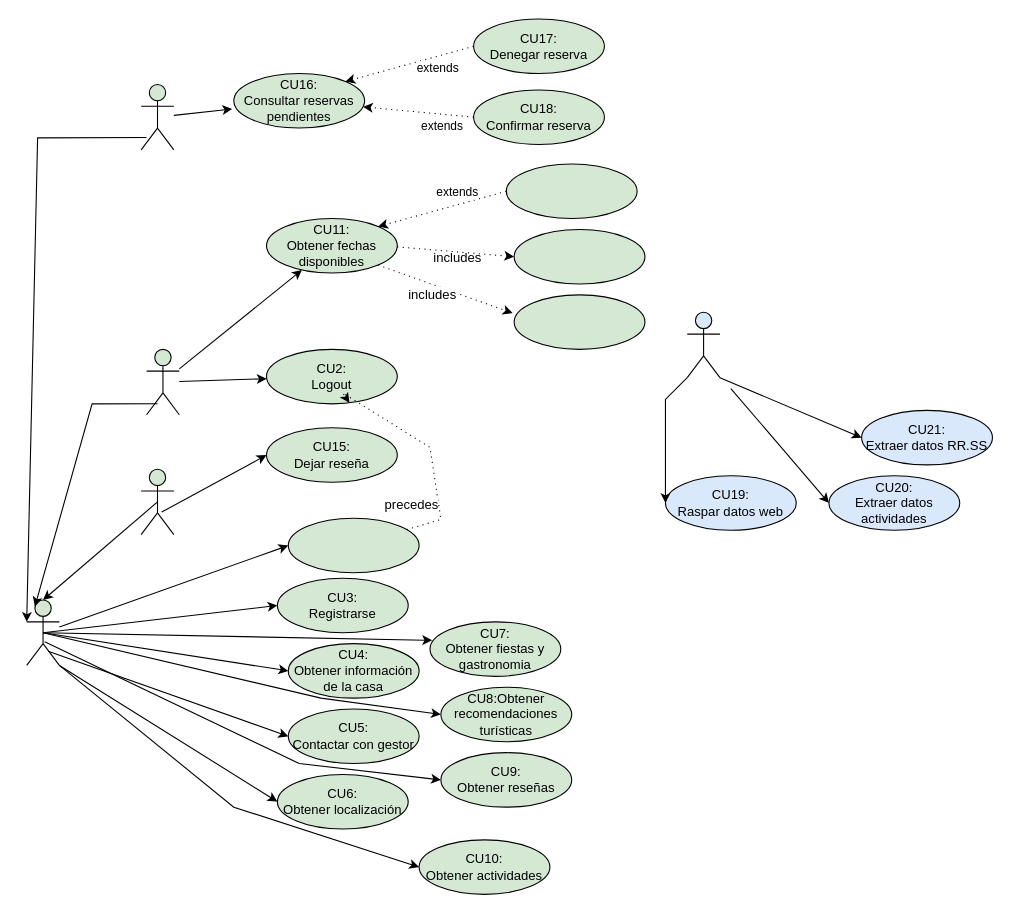
This 1012x913 diagram has some shape labels left out. Each missing label, with the box of its shape:
Cliente: (140, 468, 174, 535)
CU12: Reservar fechas: (505, 163, 637, 219)
CU13: Obtener clima: (513, 228, 645, 284)
CU14: Obtener tarifas: (513, 294, 645, 349)
CU1: Login: (287, 517, 419, 573)
Gestor: (140, 83, 174, 150)
Sistema: (686, 311, 720, 378)
Usuario: (26, 599, 59, 665)
Usuario registrado: (146, 348, 179, 415)
